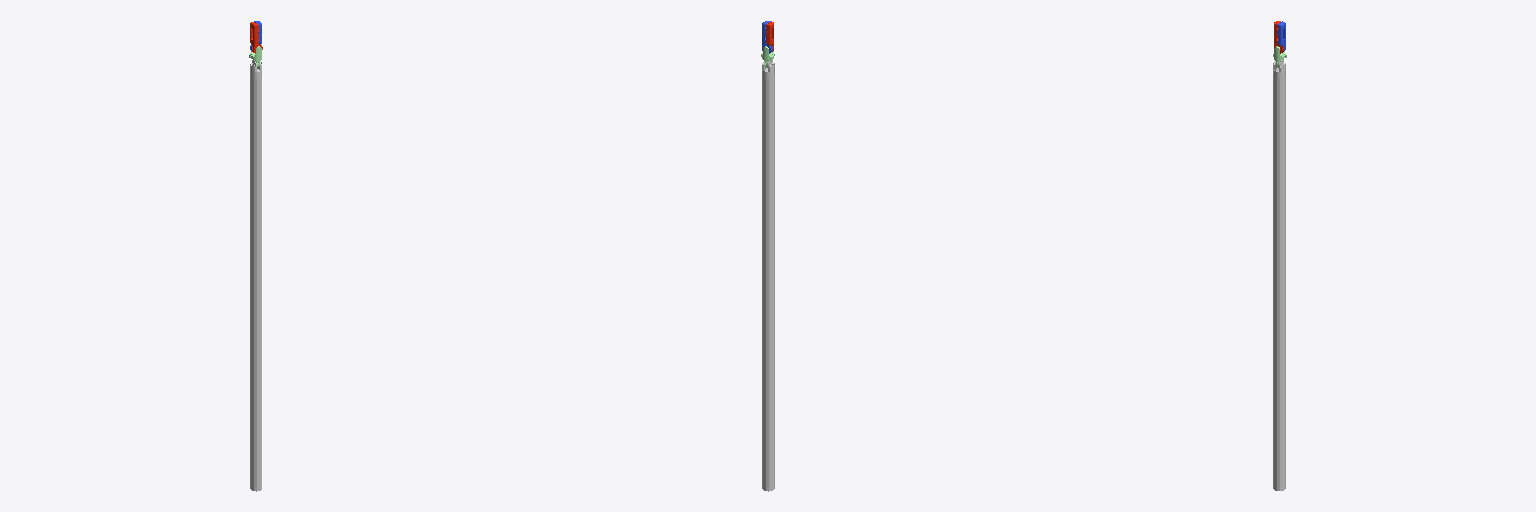
URDF robot description (openrst_description):
<?xml version="1.0" encoding="utf-8"?>
<!-- This URDF was automatically created by SolidWorks to URDF Exporter! Originally created by Stephen Brawner ([email redacted]) 
     Commit Version: 1.6.0-4-g7f85cfe  Build Version: 1.6.7995.38578
     For more information, please see http://wiki.ros.org/sw_urdf_exporter -->
<robot
  name="openrst_description">
  <link
    name="forceps_base_link">
    <inertial>
      <origin
        xyz="-0.00085346561321717 0.00151847456957136 0.0523917200689592"
        rpy="0 0 0" />
      <mass
        value="0.346130693545161" />
      <inertia
        ixx="0.000175299326957995"
        ixy="-1.82035152080858E-06"
        ixz="-4.50859180977554E-06"
        iyy="0.000227860733023644"
        iyz="2.5440596150559E-07"
        izz="0.000273017422533615" />
    </inertial>
    <visual>
      <origin
        xyz="0 0 0"
        rpy="0 0 0" />
      <geometry>
        <mesh
          filename="package://openrst_description/meshes/forceps_base_link.STL" />
      </geometry>
      <material
        name="">
        <color
          rgba="0.752941176470588 0.752941176470588 0.752941176470588 1" />
      </material>
    </visual>
    <collision>
      <origin
        xyz="0 0 0"
        rpy="0 0 0" />
      <geometry>
        <mesh
          filename="package://openrst_description/meshes/forceps_base_link.STL" />
      </geometry>
    </collision>
  </link>
  <link
    name="interface_link">
    <inertial>
      <origin
        xyz="5.06963953127062E-07 3.76579769421773E-07 0.146600908090757"
        rpy="0 0 0" />
      <mass
        value="0.0025954720274517" />
      <inertia
        ixx="1.63504042673074E-05"
        ixy="6.88745910370389E-12"
        ixz="-7.38367350777381E-12"
        iyy="1.63507045572991E-05"
        iyz="-4.95581457832934E-12"
        izz="3.56047788132976E-08" />
    </inertial>
    <visual>
      <origin
        xyz="0 0 0"
        rpy="0 0 0" />
      <geometry>
        <mesh
          filename="package://openrst_description/meshes/interface_link.STL" />
      </geometry>
      <material
        name="">
        <color
          rgba="0.894117647058823 0.894117647058823 0.894117647058823 1" />
      </material>
    </visual>
    <collision>
      <origin
        xyz="0 0 0"
        rpy="0 0 0" />
      <geometry>
        <mesh
          filename="package://openrst_description/meshes/interface_link.STL" />
      </geometry>
    </collision>
  </link>
  <joint
    name="joint_interface"
    type="fixed">
    <origin
      xyz="-0.000159164992458841 0.000894132521115185 0.133499999999999"
      rpy="0 0 0" />
    <parent
      link="forceps_base_link" />
    <child
      link="interface_link" />
    <axis
      xyz="0 0 0" />
  </joint>
  <link
    name="pitch_link">
    <inertial>
      <origin
        xyz="-4.09948894991887E-05 -0.00585741019979946 -1.71299104040566E-05"
        rpy="0 0 0" />
      <mass
        value="0.000300170225544762" />
      <inertia
        ixx="3.84723271088779E-09"
        ixy="7.35865137313952E-12"
        ixz="-8.50585202720117E-12"
        iyy="2.25524925889064E-09"
        iyz="1.20473966835049E-12"
        izz="4.71755261857779E-09" />
    </inertial>
    <visual>
      <origin
        xyz="0 0 0"
        rpy="0 0 0" />
      <geometry>
        <mesh
          filename="package://openrst_description/meshes/pitch_link.STL" />
      </geometry>
      <material
        name="">
        <color
          rgba="0.752941176470588 1 0.752941176470588 1" />
      </material>
    </visual>
    <collision>
      <origin
        xyz="0 0 0"
        rpy="0 0 0" />
      <geometry>
        <mesh
          filename="package://openrst_description/meshes/pitch_link.STL" />
      </geometry>
    </collision>
  </link>
  <joint
    name="joint_pitch"
    type="revolute">
    <origin
      xyz="0 0 0.28"
      rpy="-1.5708 0 -1.5708" />
    <parent
      link="interface_link" />
    <child
      link="pitch_link" />
    <axis
      xyz="0 0 1" />
    <limit
      lower="-1.570796"
      upper="1.570796"
      effort="1"
      velocity="5.2" />
  </joint>
  <link
    name="finger_left_link">
    <inertial>
      <origin
        xyz="-0.0013526 -0.0087787 -0.00031865"
        rpy="0 0 0" />
      <mass
        value="0.00029145" />
      <inertia
        ixx="1.0967E-08"
        ixy="-6.8406E-10"
        ixz="7.8536E-11"
        iyy="1.3803E-09"
        iyz="6.0144E-10"
        izz="1.0556E-08" />
    </inertial>
    <visual>
      <origin
        xyz="0 0 0"
        rpy="0 0 0" />
      <geometry>
        <mesh
          filename="package://openrst_description/meshes/finger_left_link.STL" />
      </geometry>
      <material
        name="">
        <color
          rgba="1 0.250980392156863 0.12156862745098 1" />
      </material>
    </visual>
    <collision>
      <origin
        xyz="0 0 0"
        rpy="0 0 0" />
      <geometry>
        <mesh
          filename="package://openrst_description/meshes/finger_left_link.STL" />
      </geometry>
    </collision>
  </link>
  <joint
    name="joint_finger_left"
    type="revolute">
    <origin
      xyz="0 -0.0115 0"
      rpy="0 -1.5708 0" />
    <parent
      link="pitch_link" />
    <child
      link="finger_left_link" />
    <axis
      xyz="0 0 1" />
    <limit
      lower="-1.570796"
      upper="1.570796"
      effort="1"
      velocity="5.2" />
  </joint>
  <link
    name="finger_right_link">
    <inertial>
      <origin
        xyz="0.0013629 -0.0083193 0.00035754"
        rpy="0 3.1416 0" />
      <mass
        value="0.00028889" />
      <inertia
        ixx="1.1619E-08"
        ixy="8.6042E-10"
        ixz="1.0617E-10"
        iyy="1.3858E-09"
        iyz="-6.7667E-10"
        izz="1.1292E-08" />
    </inertial>
    <visual>
      <origin
        xyz="0 0 0"
        rpy="0 3.1416 0" />
      <geometry>
        <mesh
          filename="package://openrst_description/meshes/finger_right_link.STL" />
      </geometry>
      <material
        name="">
        <color
          rgba="0.27843137254902 0.43921568627451 1 1" />
      </material>
    </visual>
    <collision>
      <origin
        xyz="0 0 0"
        rpy="0 3.1416 0" />
      <geometry>
        <mesh
          filename="package://openrst_description/meshes/finger_right_link.STL" />
      </geometry>
    </collision>
  </link>
  <joint
    name="joint_finger_right"
    type="revolute">
    <origin
      xyz="0 -0.0115 0"
      rpy="0 1.5708 0" />
    <parent
      link="pitch_link" />
    <child
      link="finger_right_link" />
    <axis
      xyz="0 0 1" />
    <limit
      lower="-1.570796"
      upper="1.570796"
      effort="1"
      velocity="5.2" />
  </joint>
  <link name="ee_link" />
  <joint name="joint_ee" type="fixed">
    <origin xyz="0 -0.015 0.0" rpy="0.0 0.0 0.0" />
    <parent link="finger_left_link" />
    <child link="ee_link" />
    <axis xyz="0 0 0" />
  </joint>
</robot>

--- Facts derived from the render (not from the file) ---
Views: 3 orthographic renders of the robot side by side, from view 1: azimuth 30°, elevation 25°; view 2: azimuth 150°, elevation 25°; view 3: azimuth 330°, elevation 25°.
Robot: openrst_description — 6 links, 5 joints (3 revolute, 2 fixed); root link forceps_base_link; default pose: all joints at 0.
Visible links, largest first — view 1: interface_link; view 2: interface_link; view 3: interface_link.
Boxes of the visible links, left/top/right/bottom form: interface_link: left=250, top=60, right=261, bottom=491; interface_link: left=762, top=60, right=774, bottom=491; interface_link: left=1273, top=60, right=1285, bottom=490.
Size in the robot's own frame: 0.0088 by 0.008 by 0.338 metres.
4 mesh visuals loaded from 5 distinct referenced files (4 binary STL); not drawn: 1 (reference not matched to a file when rendering).
